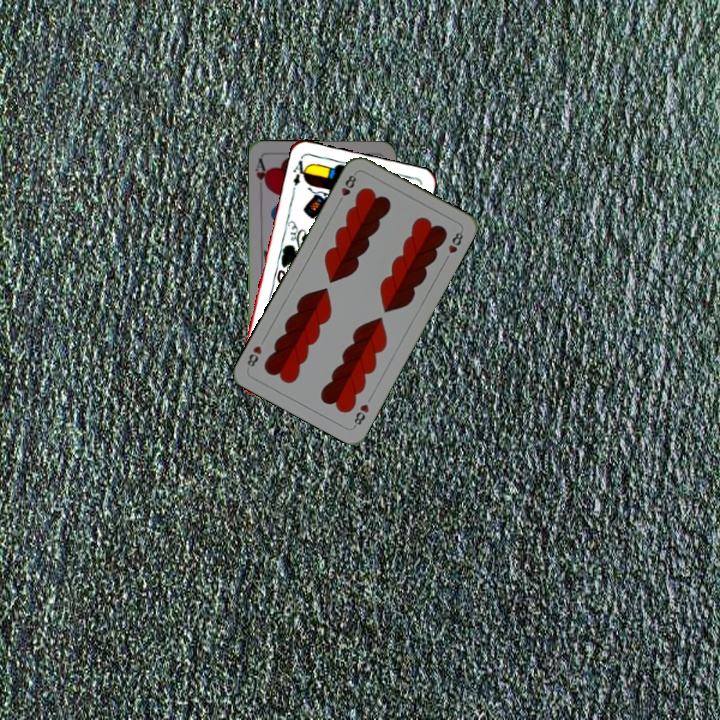EA: (288, 154, 311, 194)
H8: (334, 169, 359, 206), (349, 400, 372, 430)
HA: (251, 155, 271, 196)
